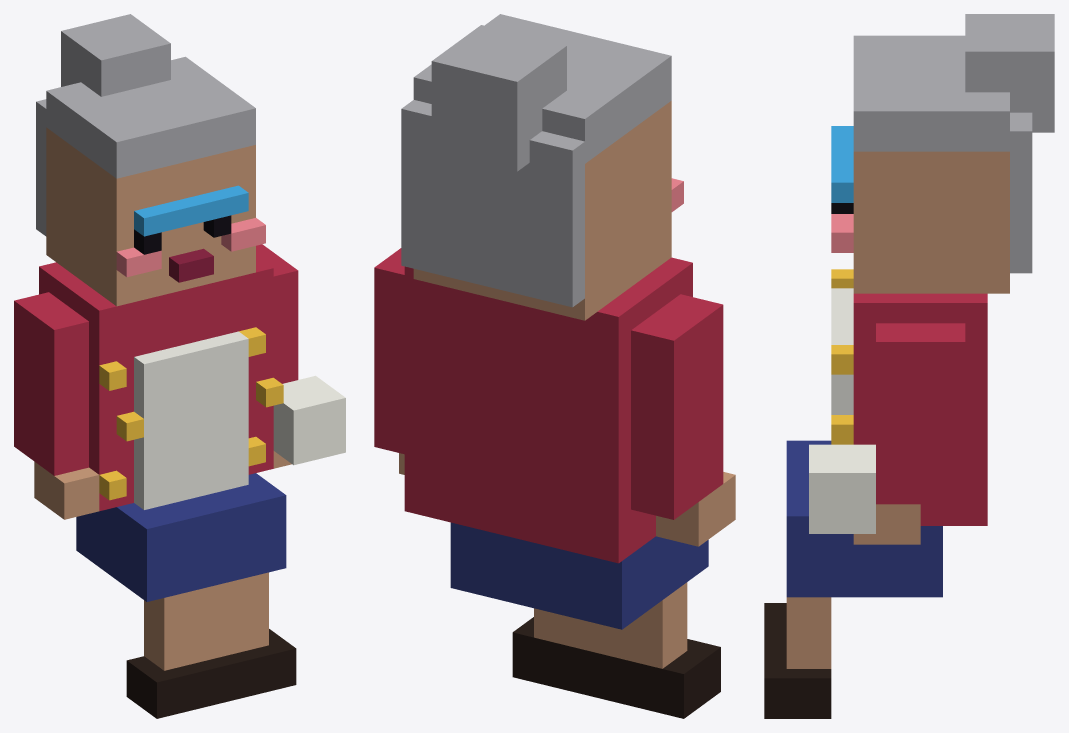
Rendered from chepa.obj.
The picture shows the model from 3 angles, left to right: view 1: azimuth 30°, elevation 25°; view 2: azimuth 150°, elevation 25°; view 3: azimuth 270°, elevation 25°; orthographic projection. The views are drawn at different scales.
Parts seen in each view (by area): view 1: cabeza, cuerpo, piernas, delantal, pelo, brazos, canillas, pies, pelo_mono, rollo, huipil_bordado, lentes (+4 smaller); view 2: cuerpo, pelo, brazos, piernas, cabeza, pelo_mono, pies, canillas, manos; view 3: cabeza, pelo, brazos, cuerpo, piernas, pelo_mono, rollo, pies, canillas, delantal, manos, huipil_bordado (+2 smaller).
Part boxes in pixels (x1,y1,x2,y2): cabeza: [46, 127, 255, 306]; cuerpo: [39, 255, 273, 511]; piernas: [76, 473, 286, 601]; delantal: [134, 331, 248, 509]; pelo: [36, 56, 255, 236]; brazos: [14, 244, 298, 475]; canillas: [144, 572, 268, 670]; pies: [126, 629, 296, 718]; pelo_mono: [61, 14, 170, 96]; rollo: [273, 375, 345, 465]; huipil_bordado: [99, 327, 283, 500]; lentes: [134, 185, 248, 236]; cuerpo: [404, 257, 692, 563]; pelo: [401, 14, 671, 307]; brazos: [374, 248, 723, 519]; piernas: [450, 522, 708, 629]; cabeza: [413, 101, 671, 320]; pelo_mono: [431, 25, 566, 171]; pies: [512, 617, 720, 718]; canillas: [534, 582, 687, 668]; manos: [399, 453, 735, 546]; cabeza: [853, 151, 1009, 293]; pelo: [853, 35, 1032, 273]; brazos: [876, 323, 965, 504]; cuerpo: [853, 293, 987, 525]; piernas: [786, 440, 942, 597]; pelo_mono: [965, 14, 1054, 132]; rollo: [809, 444, 875, 533]; pies: [764, 603, 831, 718]; canillas: [786, 597, 831, 668]; delantal: [831, 288, 853, 414]; manos: [853, 504, 920, 544]; huipil_bordado: [831, 269, 853, 444].
Size of the model in its own units: 0.75 by 1.6 by 0.65.
